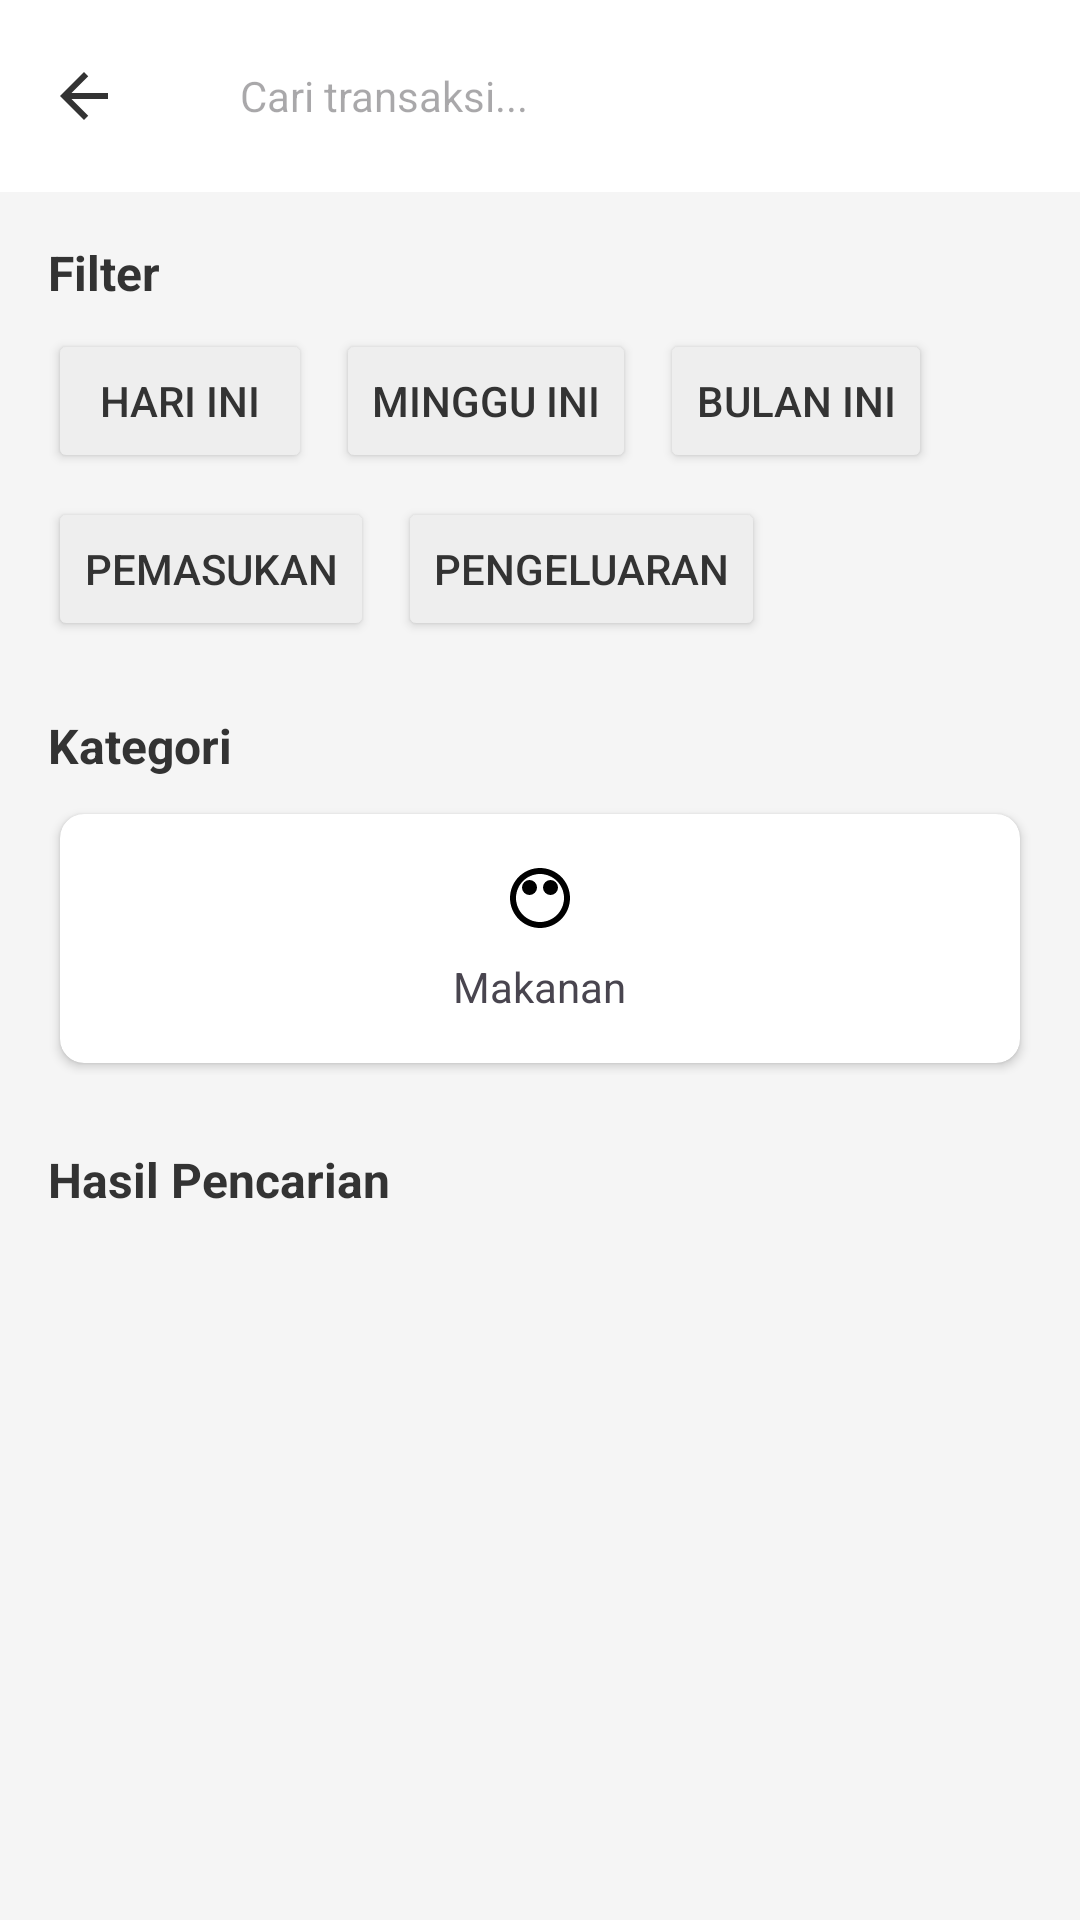

Where to tap for icons on this 1080 × 1920 app screen, as point (x, y):
arrow back: point (84, 96)
